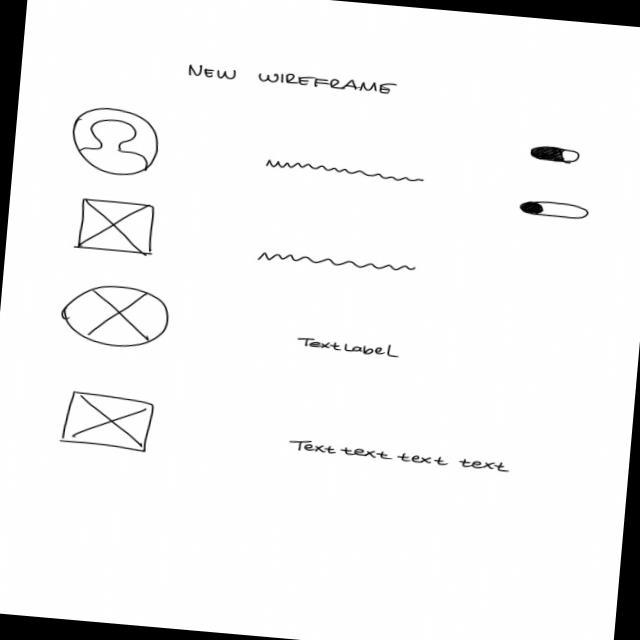image: (57, 280, 172, 351), (68, 104, 164, 179), (56, 388, 156, 454), (73, 195, 159, 258)
label: (286, 436, 512, 474), (183, 61, 400, 96), (294, 334, 403, 360)
text: (262, 156, 426, 184), (254, 249, 417, 275)
toggle: (518, 196, 590, 222), (527, 143, 582, 165)
